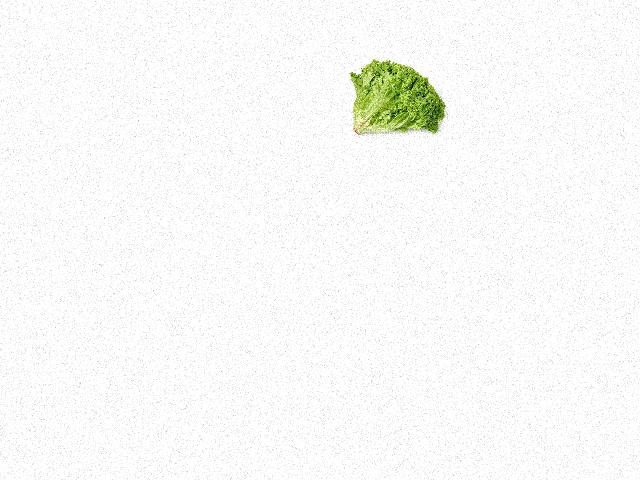lettuce: (346, 54, 450, 142)
